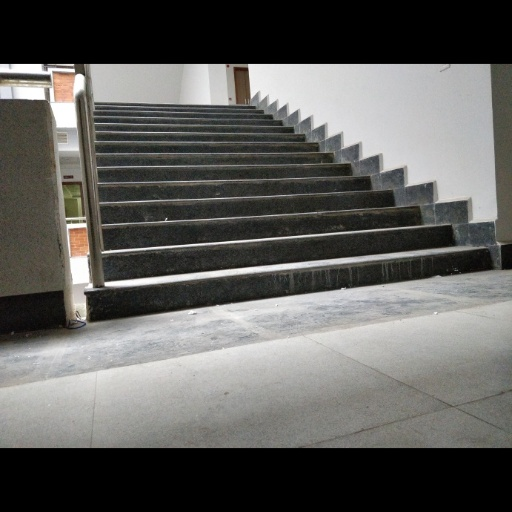Stairs: (87, 104, 491, 320)
